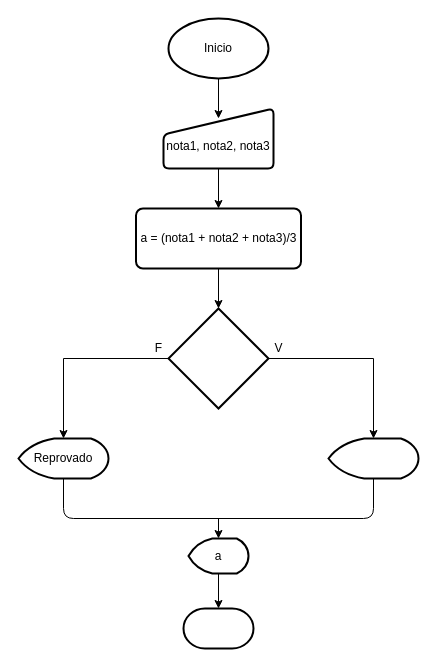
Some shapes in this 436 by 666 pixel diagram are drawn without their labels. Each missing label, with the centre of its shape:
a >= 6: (x=218, y=358)
Aprovado: (x=373, y=458)
Fim: (x=218, y=628)
